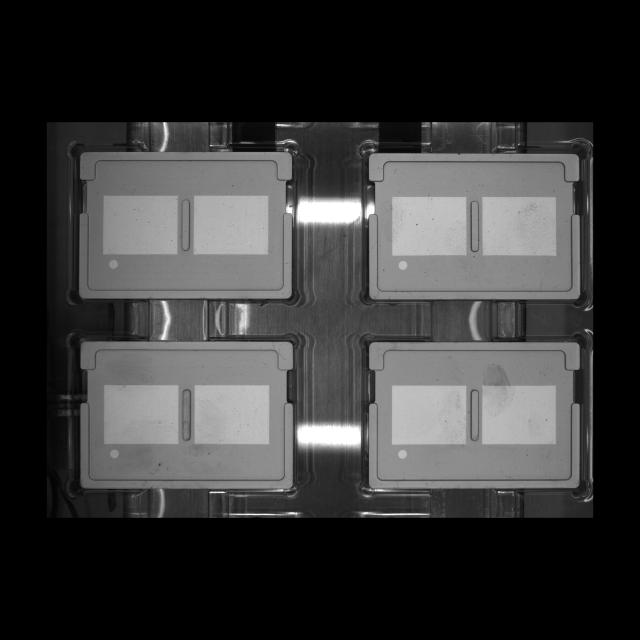product: (355, 134, 590, 309), (64, 137, 302, 309), (357, 329, 589, 500), (68, 328, 301, 497)
